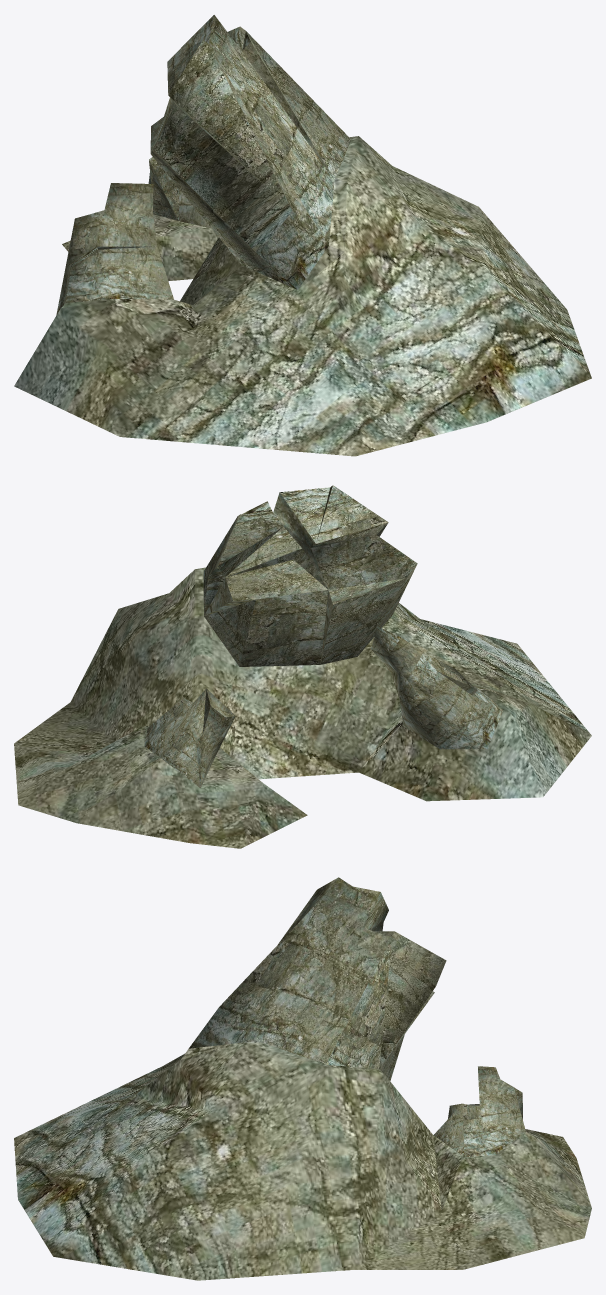
The model's file is rock_stonemine_temperate.glb.
3 views of the same model, one above another, from view 1: azimuth 30°, elevation 25°; view 2: azimuth 150°, elevation 25°; view 3: azimuth 270°, elevation 25° (orthographic). The views are drawn at different scales.
Parts seen in each view (by area): view 1: rock_stonemine_temperate; view 2: rock_stonemine_temperate; view 3: rock_stonemine_temperate.
Part boxes in pixels (box(x1,y1,x2,y2)): rock_stonemine_temperate: box(14, 15, 591, 456); rock_stonemine_temperate: box(14, 485, 591, 848); rock_stonemine_temperate: box(14, 877, 591, 1280).
Size of the model in its own units: 21.59 by 11.99 by 23.2.
1 material, 1 textured.
